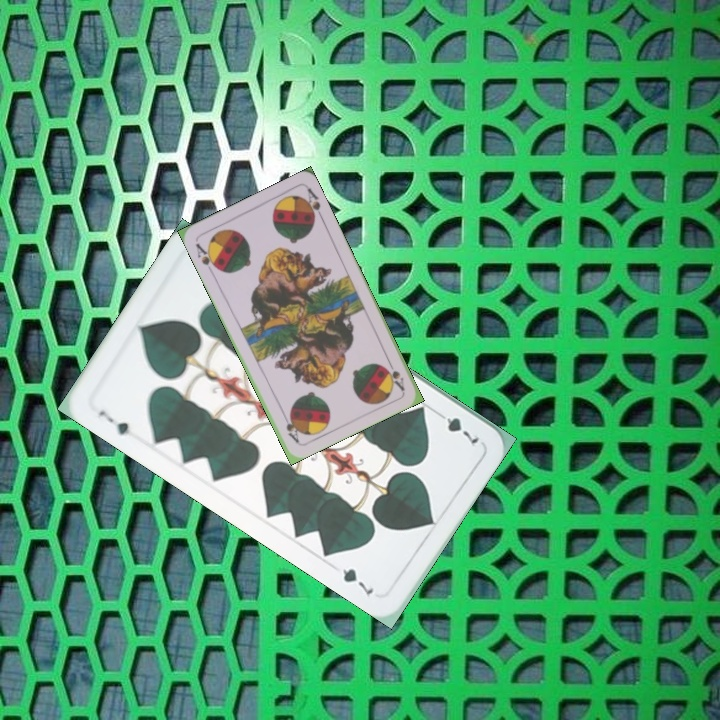G7: (431, 407, 483, 447), (94, 406, 138, 442)
SA: (191, 239, 221, 276), (381, 355, 407, 393)
